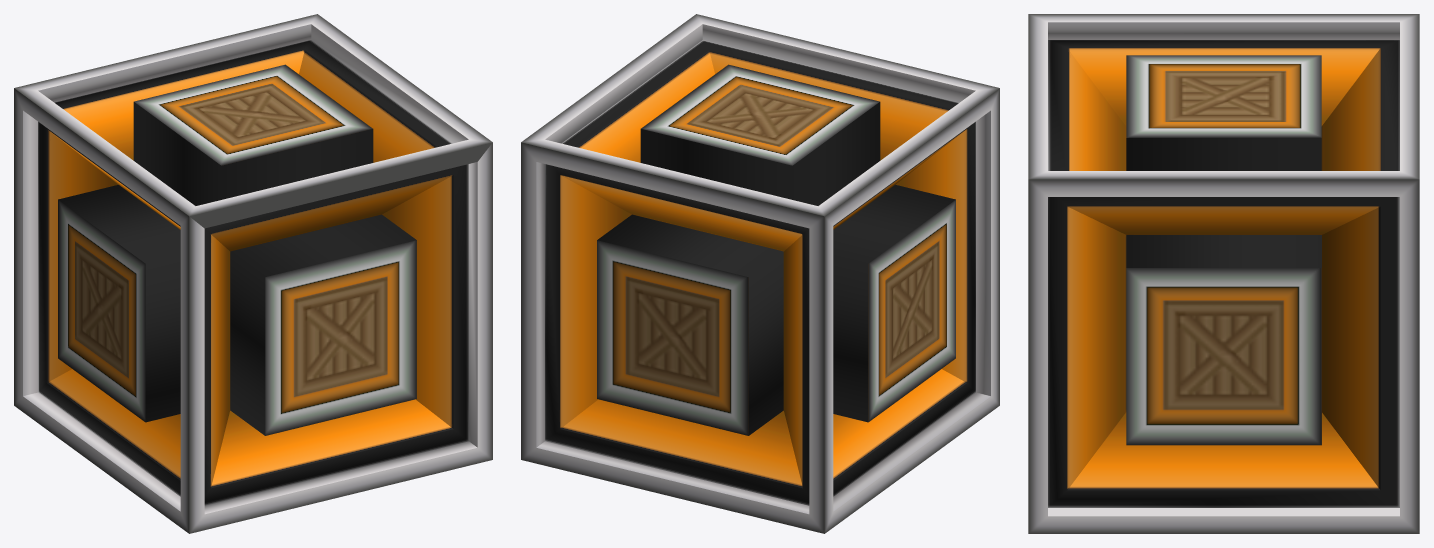
The model's file is almost_infinite_barrel.obj.
The picture shows the model from 3 angles, left to right: view 1: azimuth 30°, elevation 25°; view 2: azimuth 150°, elevation 25°; view 3: azimuth 270°, elevation 25°; orthographic projection. The views are drawn at different scales.
Visible parts, largest first — view 1: Cube.002; view 2: Cube.002; view 3: Cube.002.
Part boxes in pixels (x1,y1,x2,y2): Cube.002: (14, 14, 492, 533); Cube.002: (521, 14, 999, 533); Cube.002: (1028, 14, 1419, 533).
Size of the model in its own units: 1 by 1 by 1.
